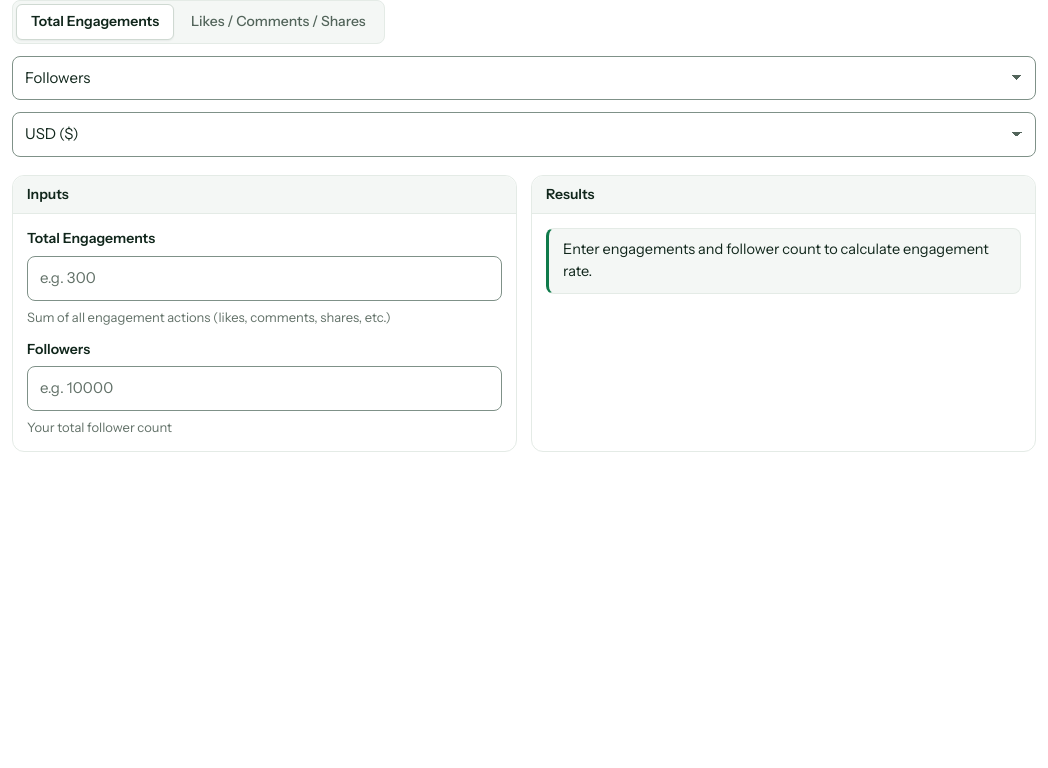
Test: EngagementRateCalculator › calculates rate in breakdown mode: likes+comments+shares / followers
Step 1. Click the tab "Likes / Comments / Shares" → (278, 22), box top-left (176, 4), bottom-right (381, 40)
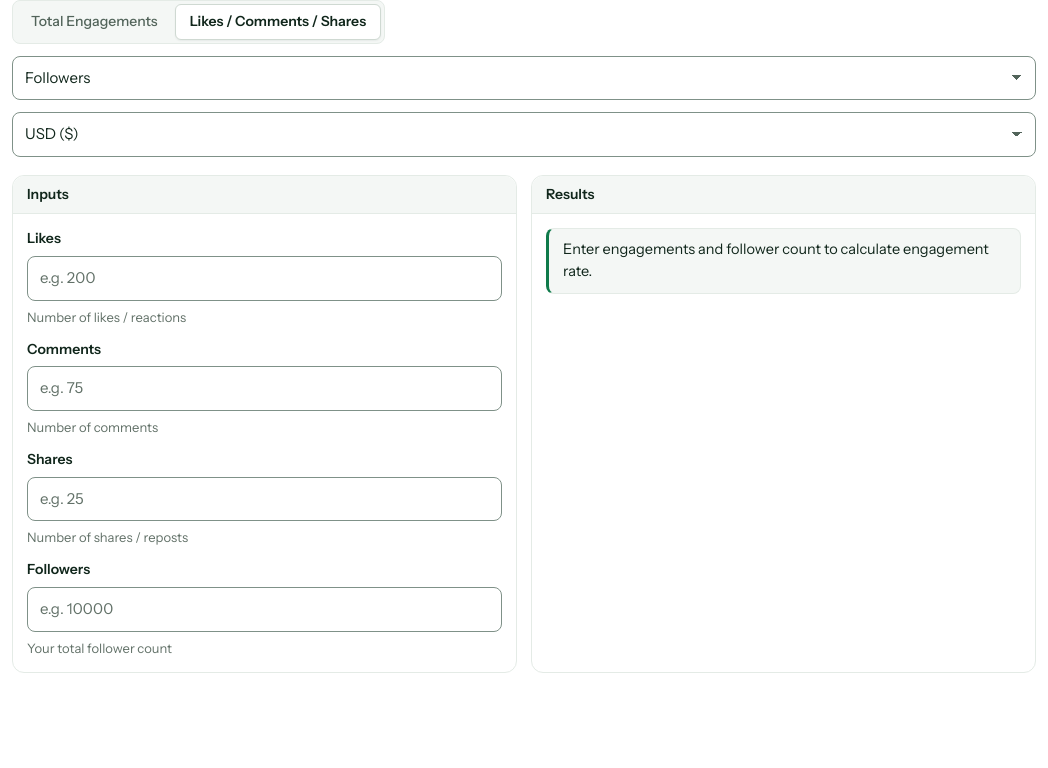
Step 2. Type "200" into the number field with placeholder "e.g. 200" → (264, 278), box top-left (27, 256), bottom-right (502, 301)
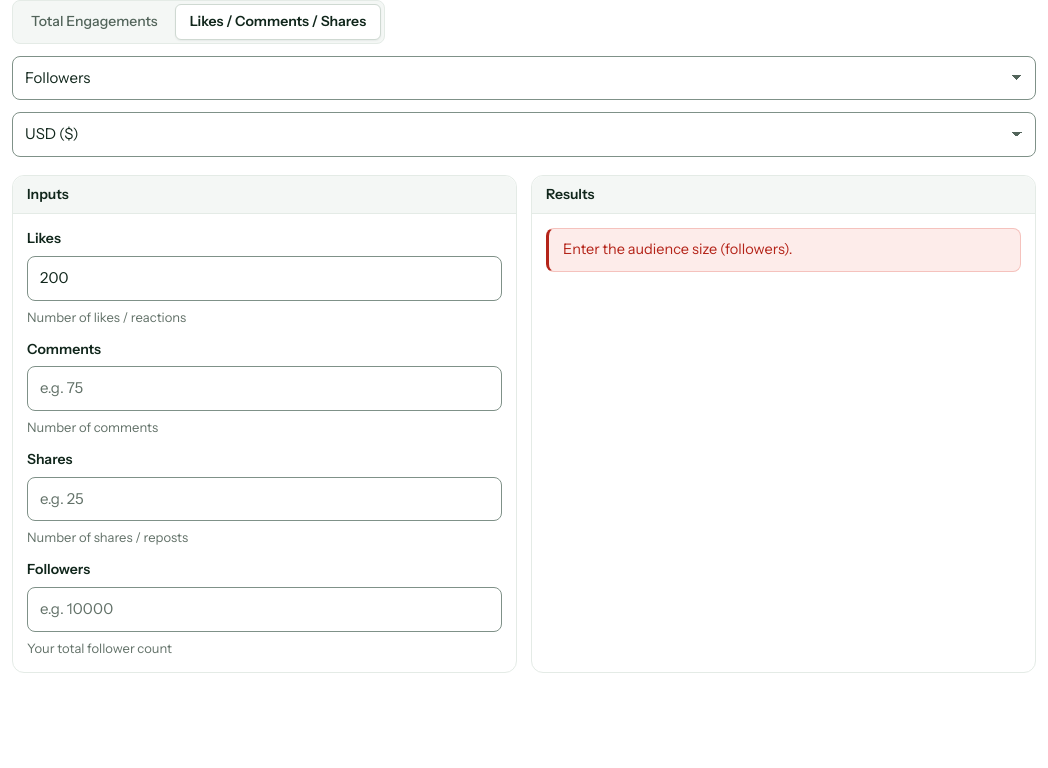
Step 3. Type "75" into the number field with placeholder "e.g. 75" → (264, 389), box top-left (27, 366), bottom-right (502, 411)
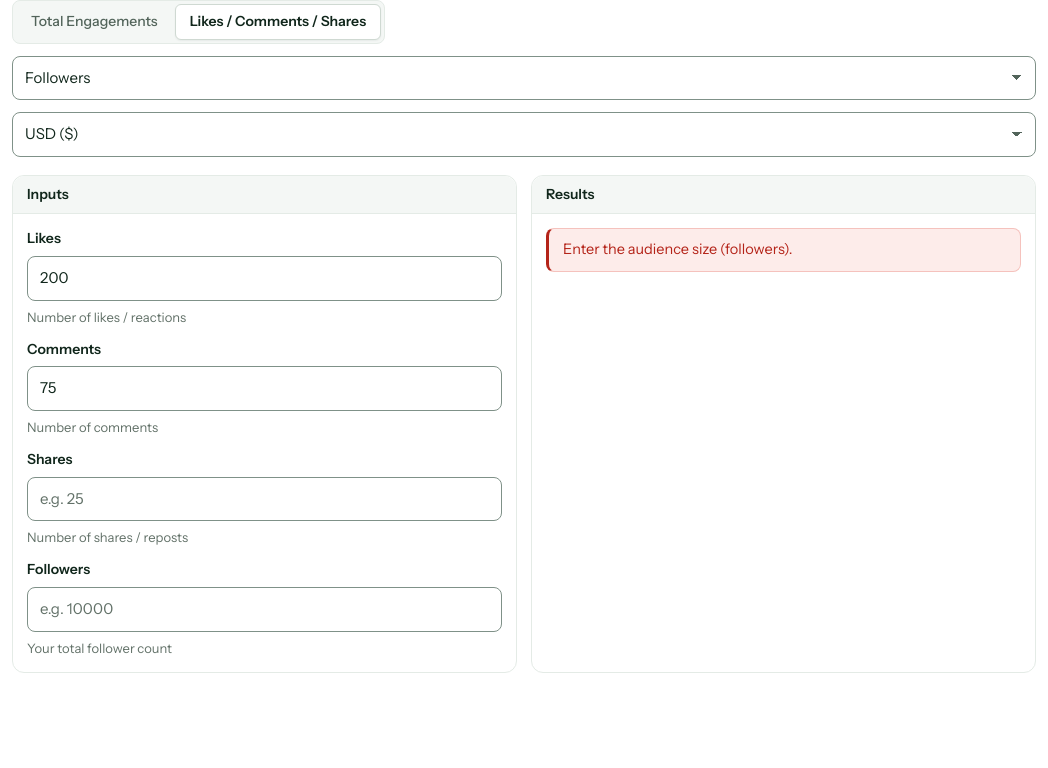
Step 4. Type "25" into the number field with placeholder "e.g. 25" → (264, 499), box top-left (27, 477), bottom-right (502, 521)
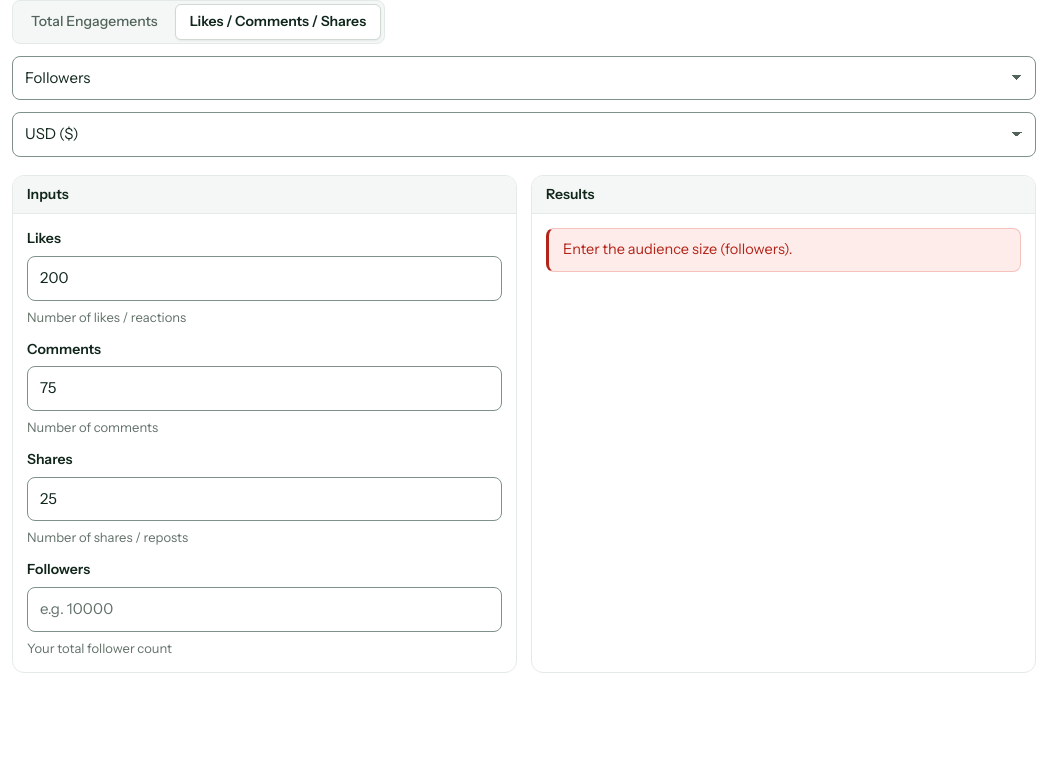
Step 5. Type "10000" into the number field with placeholder "e.g. 10000" → (264, 609), box top-left (27, 587), bottom-right (502, 632)
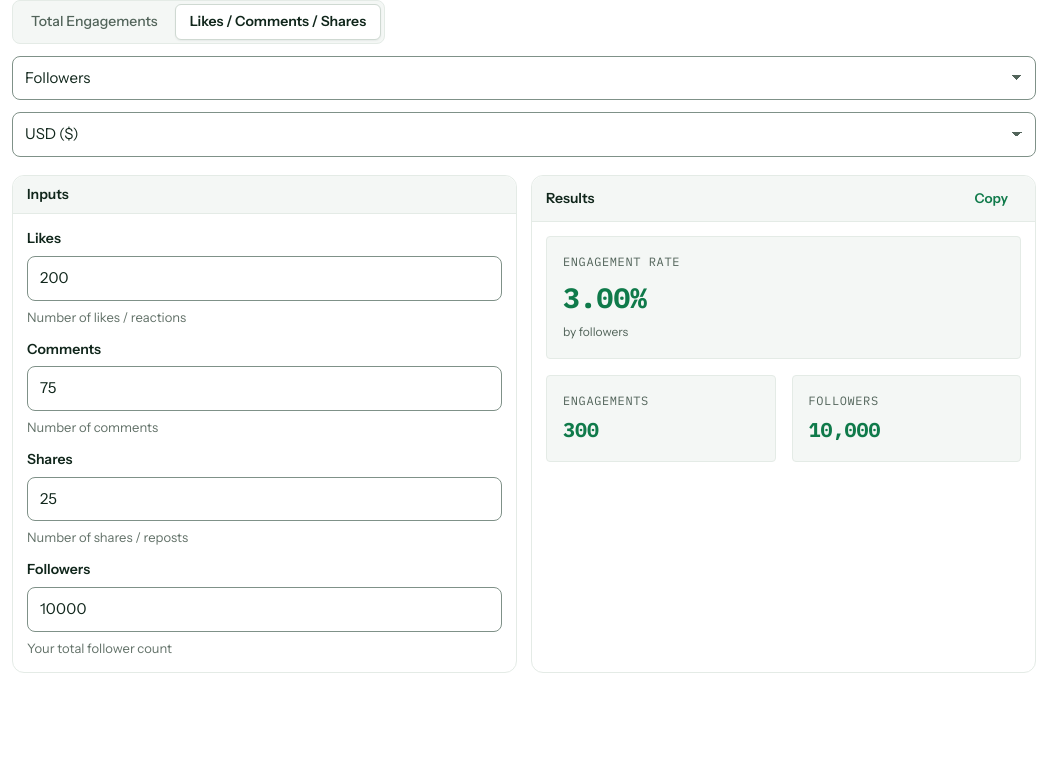
Result: the text "3.00%" is shown at top-left (563, 279), bottom-right (647, 316)
